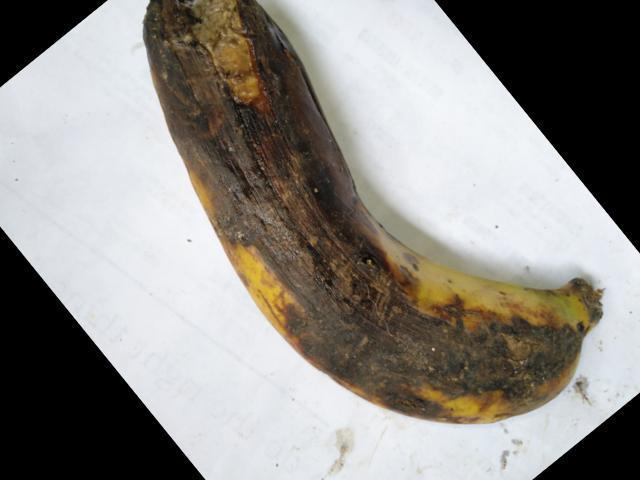rotten: (117, 0, 581, 433)
